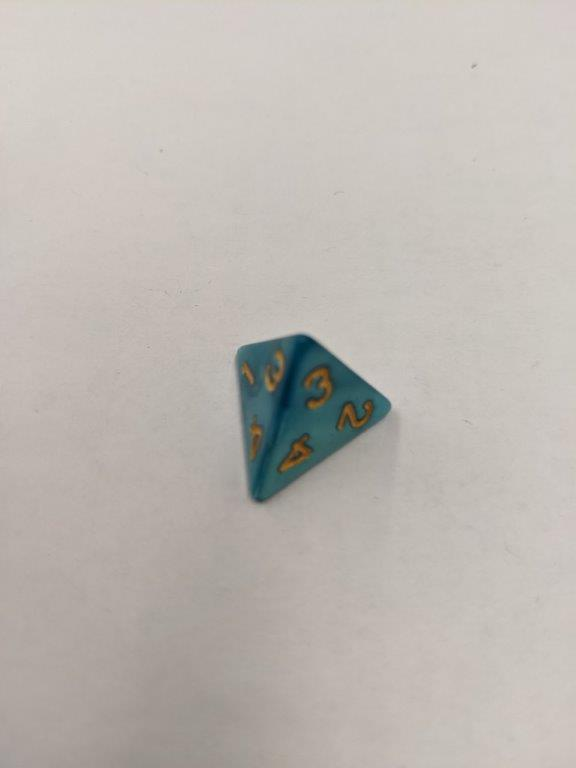d4-3: (225, 333, 397, 504)
